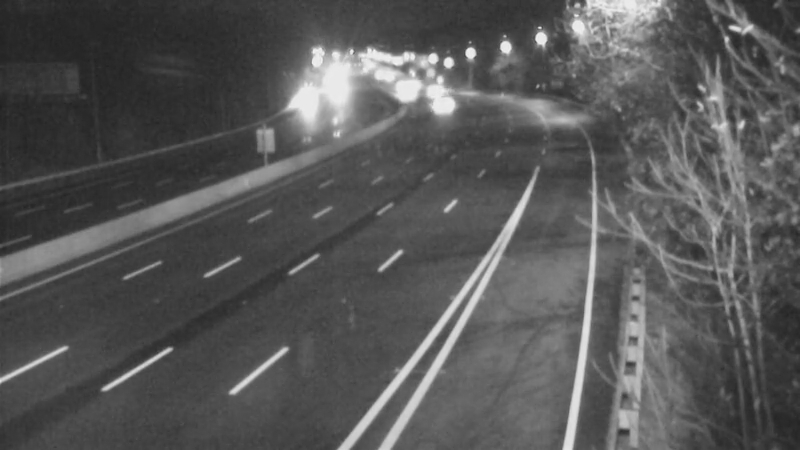vehicle: (409, 61, 459, 111), (383, 70, 433, 120), (416, 75, 466, 125)
